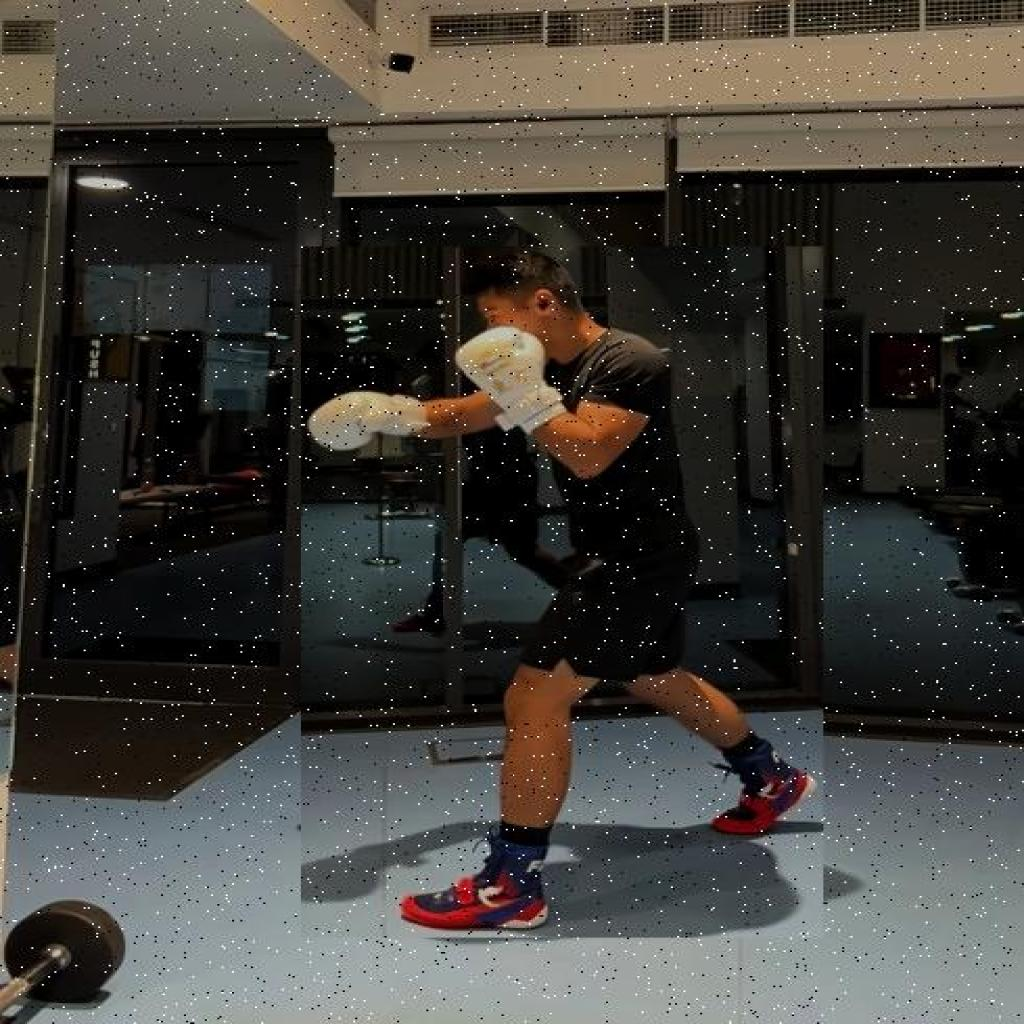hook: (301, 246, 824, 938)
